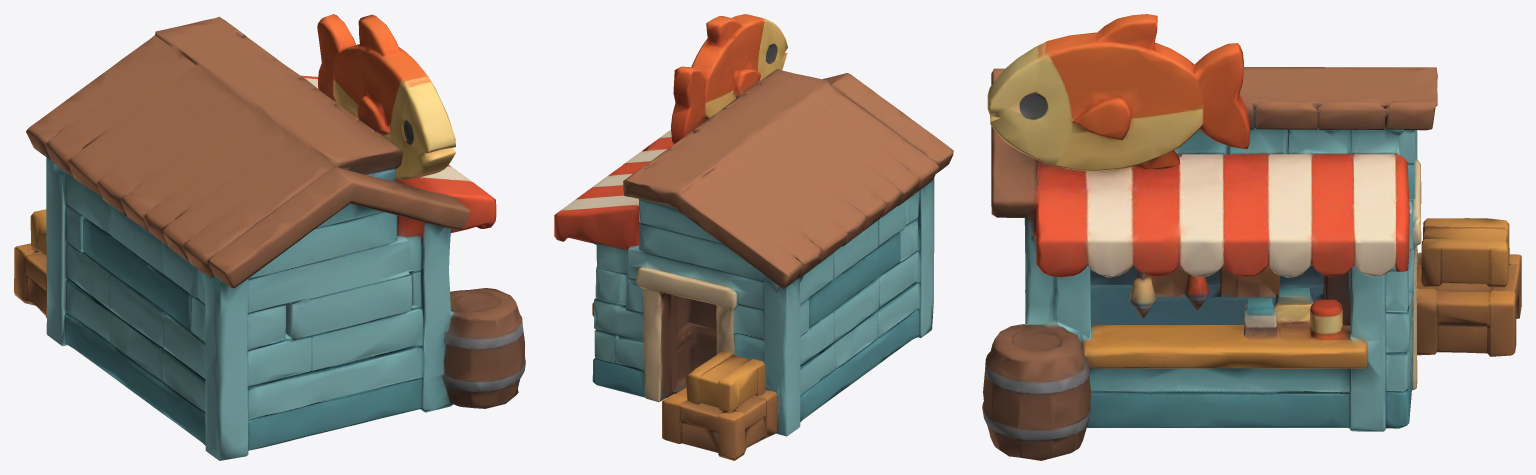
File: shop.glb
The picture shows the model from 3 angles, left to right: view 1: azimuth 30°, elevation 25°; view 2: azimuth 150°, elevation 25°; view 3: azimuth 270°, elevation 25°; orthographic projection. The views are drawn at different scales.
Parts seen in each view (by area): view 1: tripo_node_926c349d-35ae-4d2a-b4a7-cca67eb49452; view 2: tripo_node_926c349d-35ae-4d2a-b4a7-cca67eb49452; view 3: tripo_node_926c349d-35ae-4d2a-b4a7-cca67eb49452.
Boxes of the visible parts, x1,y1,x2,y2 form: tripo_node_926c349d-35ae-4d2a-b4a7-cca67eb49452: (14,14,525,460); tripo_node_926c349d-35ae-4d2a-b4a7-cca67eb49452: (554,14,953,460); tripo_node_926c349d-35ae-4d2a-b4a7-cca67eb49452: (982,14,1521,460).
Bounding box in the file's own units: 0.7534 × 0.8131 × 1.
Materials: 1 (1 with a texture image).
